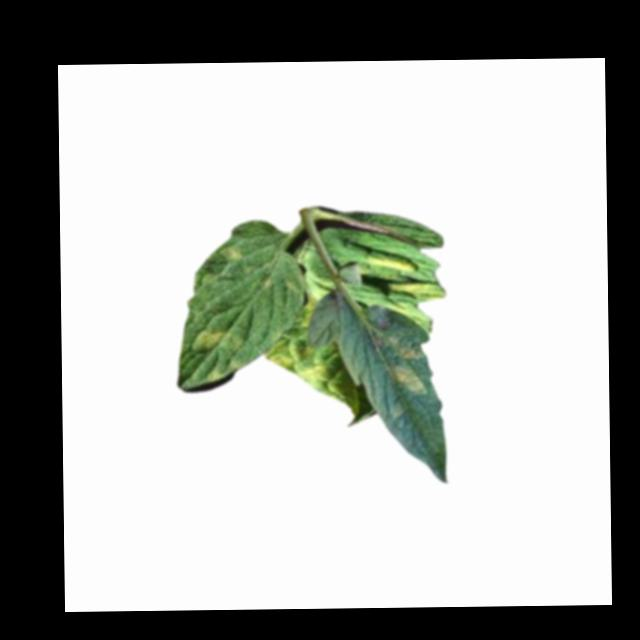Leaf_Mold: (259, 295, 344, 390), (387, 276, 447, 306), (190, 326, 248, 353), (365, 249, 418, 274), (390, 362, 426, 396), (219, 245, 245, 264)
